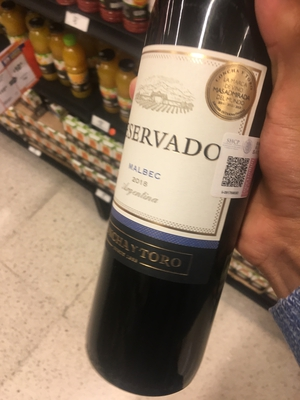reservado malbec: (105, 15, 276, 348)
